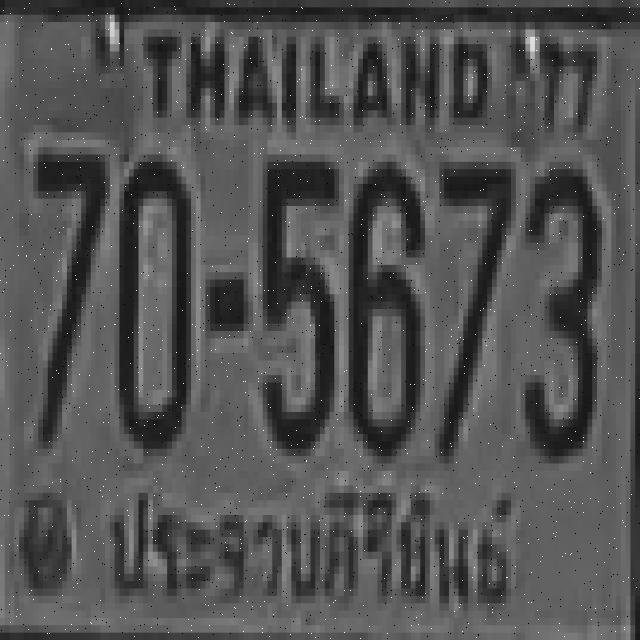0: (115, 151, 187, 445)
3: (521, 162, 597, 456)
5: (258, 154, 334, 448)
6: (344, 158, 420, 452)
7: (435, 154, 511, 456), (34, 148, 106, 442), (34, 147, 106, 361)
PrachuapKhiriKhan: (99, 470, 532, 636)
